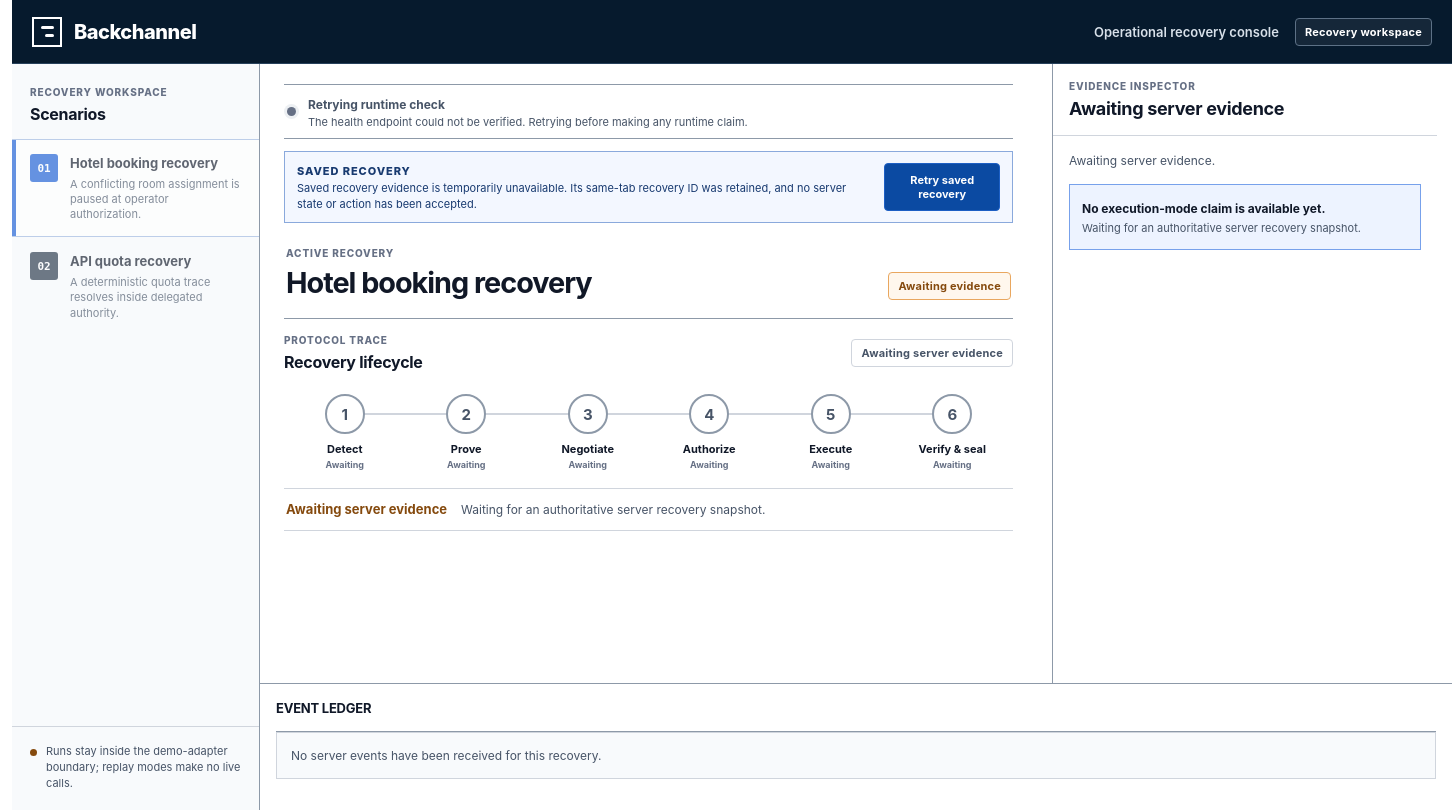
Test: explicit, reload-safe live recovery › ignores a late resolve from a timed-out restoration after a newer retry succeeds
What coordinates should you click on to do the following:
click the button "Retry saved recovery"
I would click on:
 (942, 187)
Its box is [884, 163, 1000, 211].
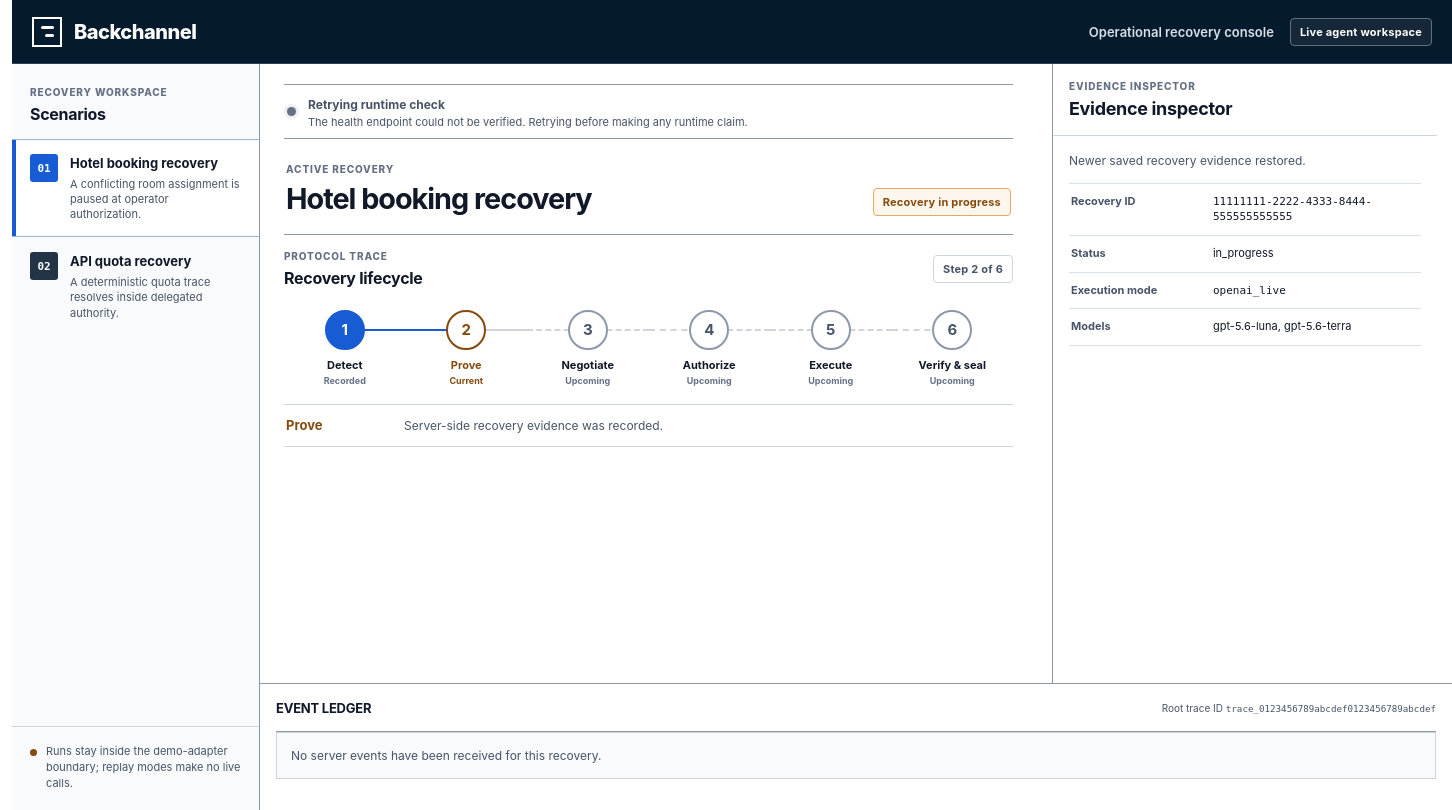
Expected: the button "Retry saved recovery" is gone
